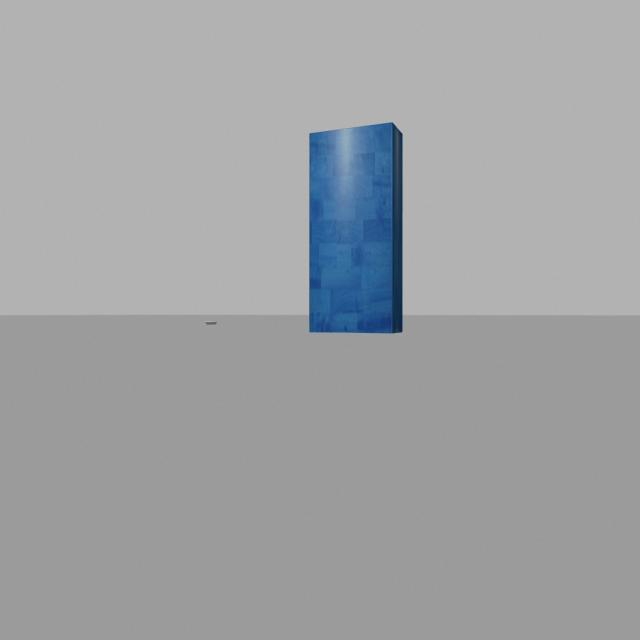bowl: (198, 313, 220, 335)
shelf: (294, 113, 414, 350)
